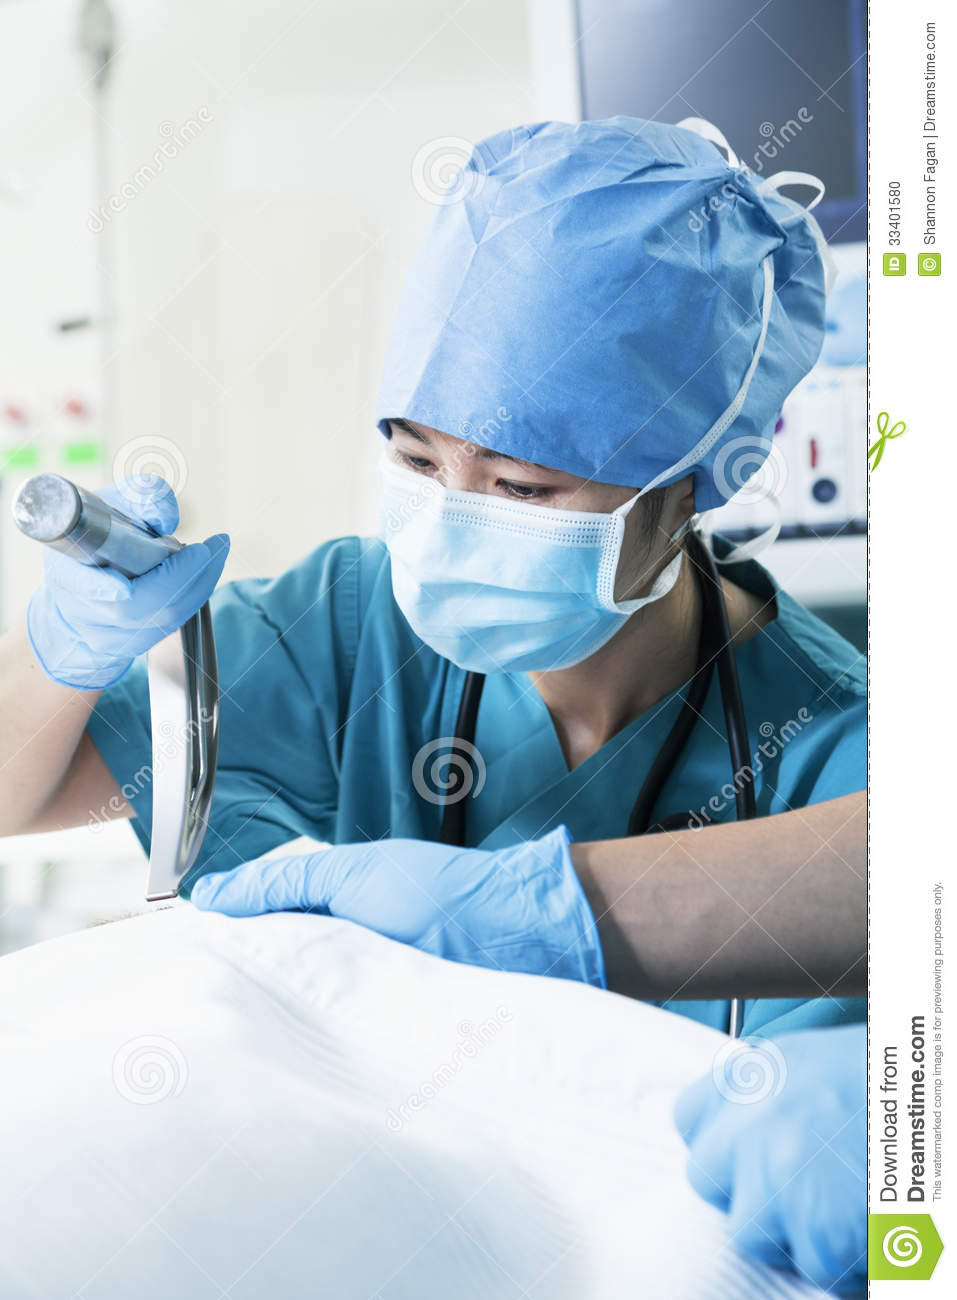mask: (368, 437, 640, 687)
